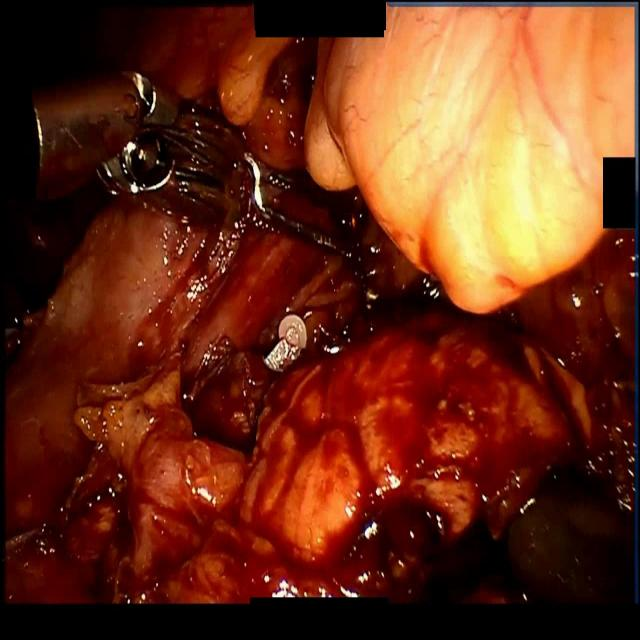surgical-area: (0, 0, 634, 606)
surgical-tool: (28, 72, 379, 324)
